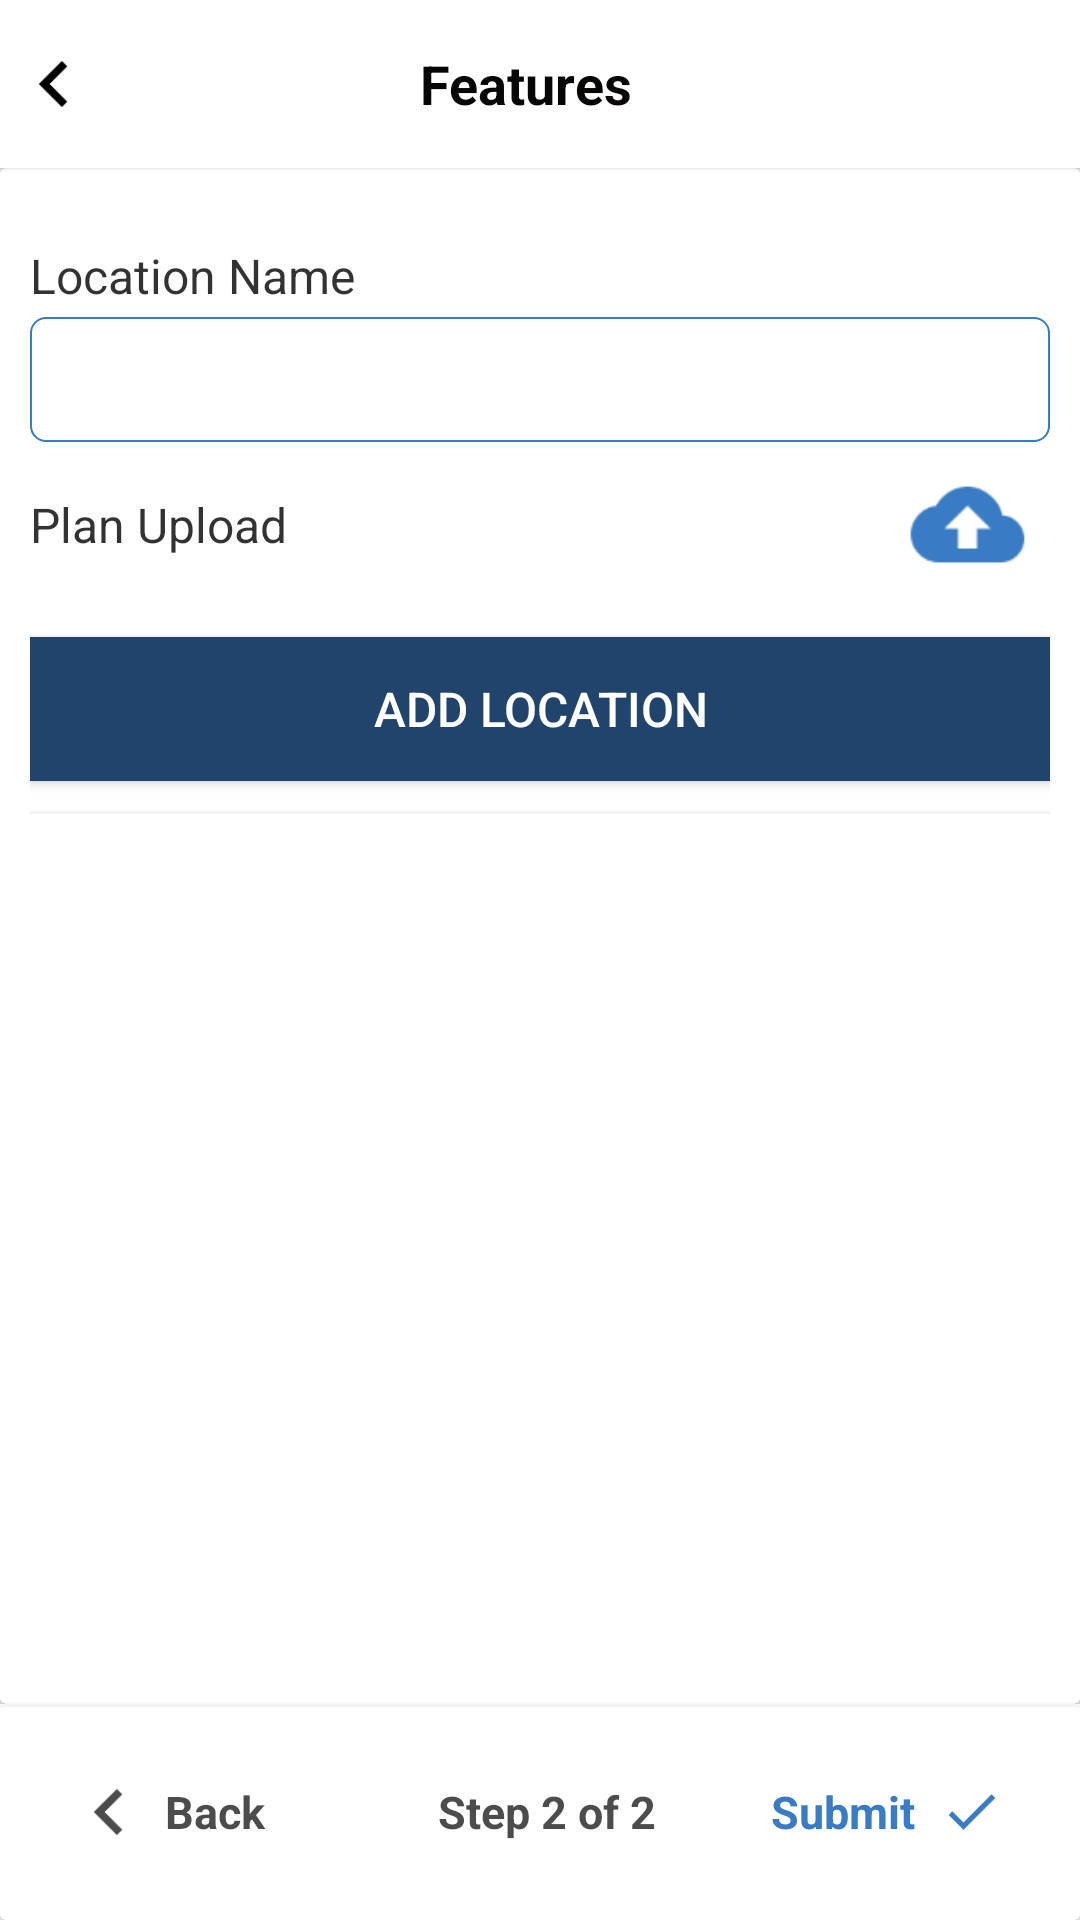

Locate icon controls on the screen. Image size 1080w x 1920h, boxes as (x1, y1, x2, y2).
chevron left: (39, 61, 68, 107), (94, 1789, 122, 1835)
cloud upload: (910, 486, 1025, 563)
done: (949, 1794, 995, 1830)
